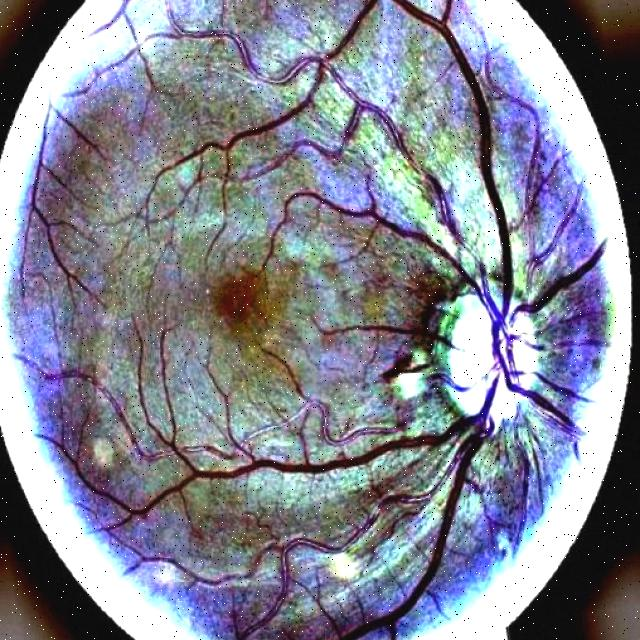Macula: (212, 272, 282, 345)
Nerves: (38, 0, 605, 640), (146, 0, 464, 251)
Optic Disk: (432, 273, 538, 435)
